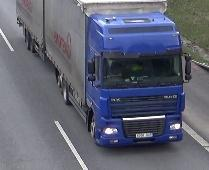Truck: (19, 0, 191, 148)
